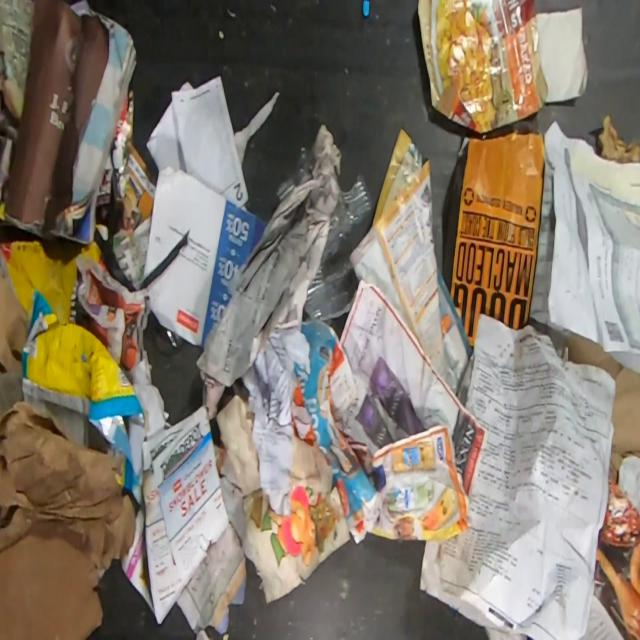cardboard: (0, 532, 104, 639), (564, 331, 640, 473), (0, 255, 31, 376), (598, 115, 640, 165)
rigid_plastic: (304, 172, 376, 322), (289, 147, 314, 189)
soft_plastic: (20, 288, 145, 491)
